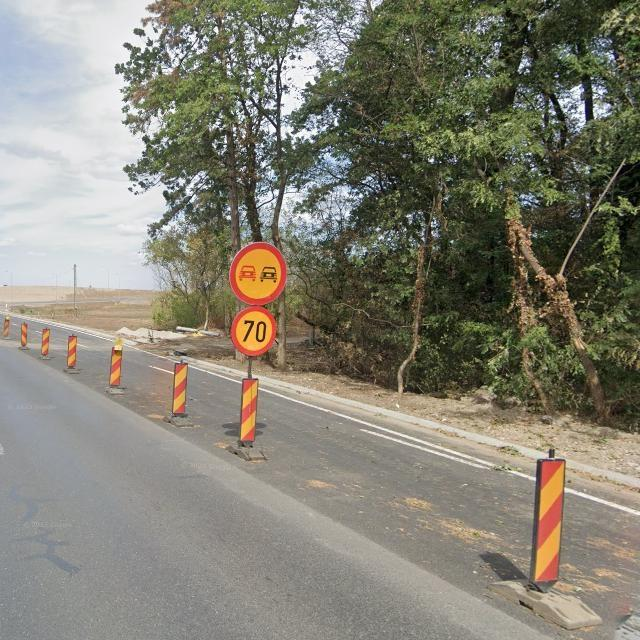forb_overtake: (229, 242, 287, 307)
forb_speed_over_70: (231, 307, 277, 356)
